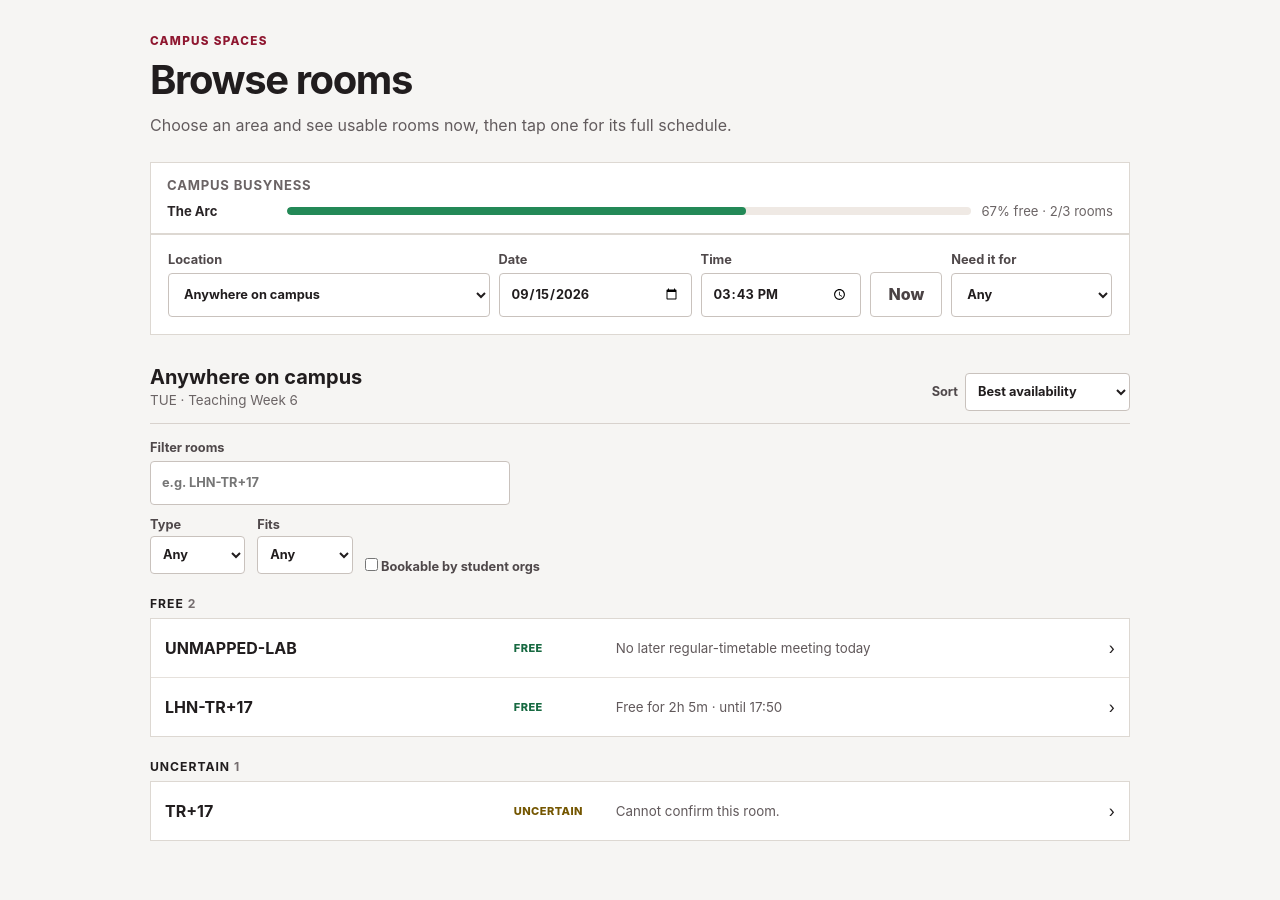
Test: Browse Rooms › filters to rooms bookable by student organisations
Expected: the text "UNMAPPED-LAB" is shown, 165,638 -> 297,658
Select "The Arc · 3 rooms" in the dropdown labelled "Location": x=329, y=295 168,273 -> 490,317
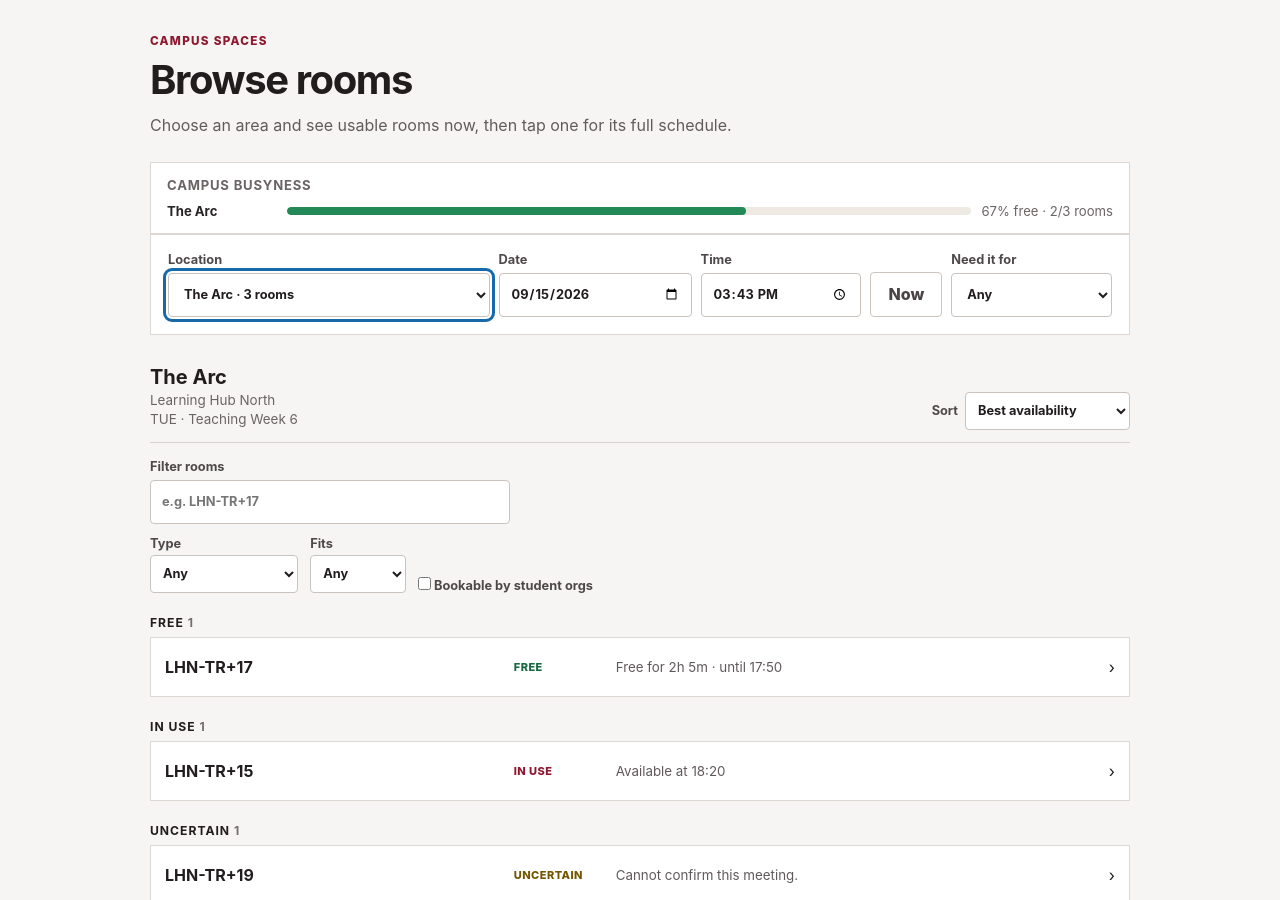
Expected: the text "LHN-TR+17" is shown, 165,657 -> 253,677
Click the checkbox labelled "Bookable by student orgs": x=424, y=583 418,577 -> 431,590
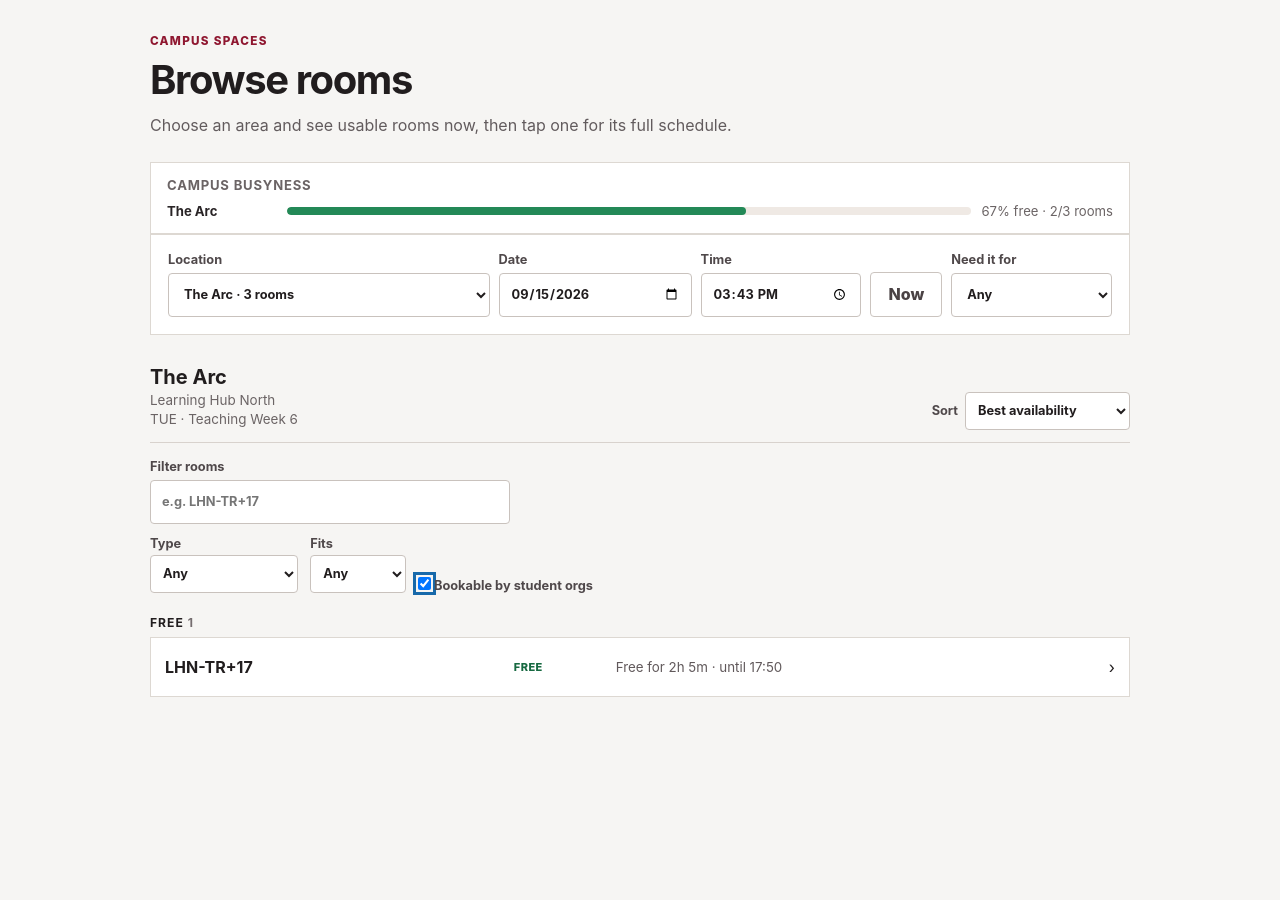
Expected: the text "LHN-TR+17" is shown, 165,657 -> 253,677
Expected: the link "LHN-TR+15" is gone
